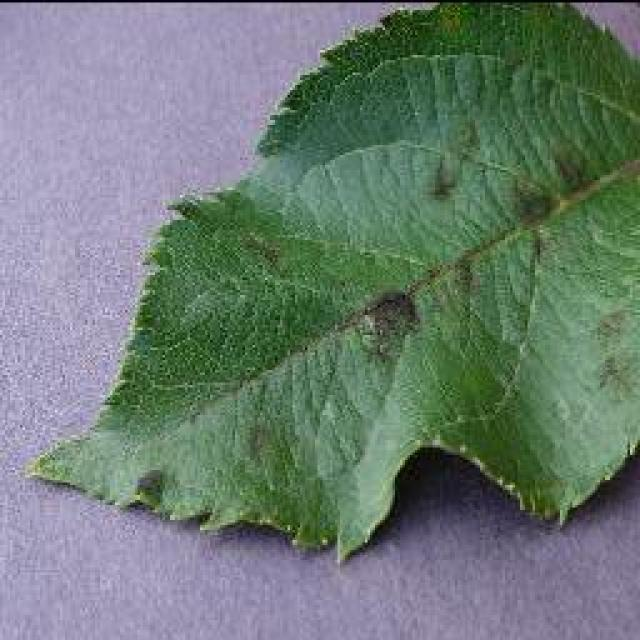apple scab disease: (24, 0, 637, 562)
